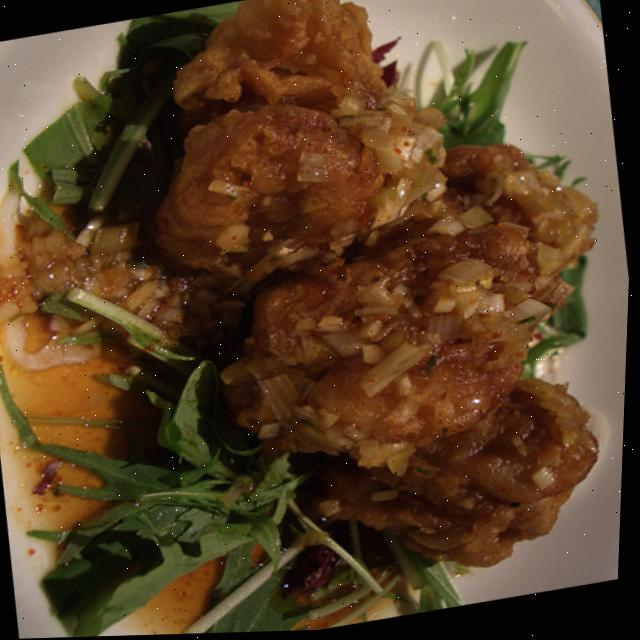鸡肉料理 含炸鸡: (53, 0, 640, 638)
